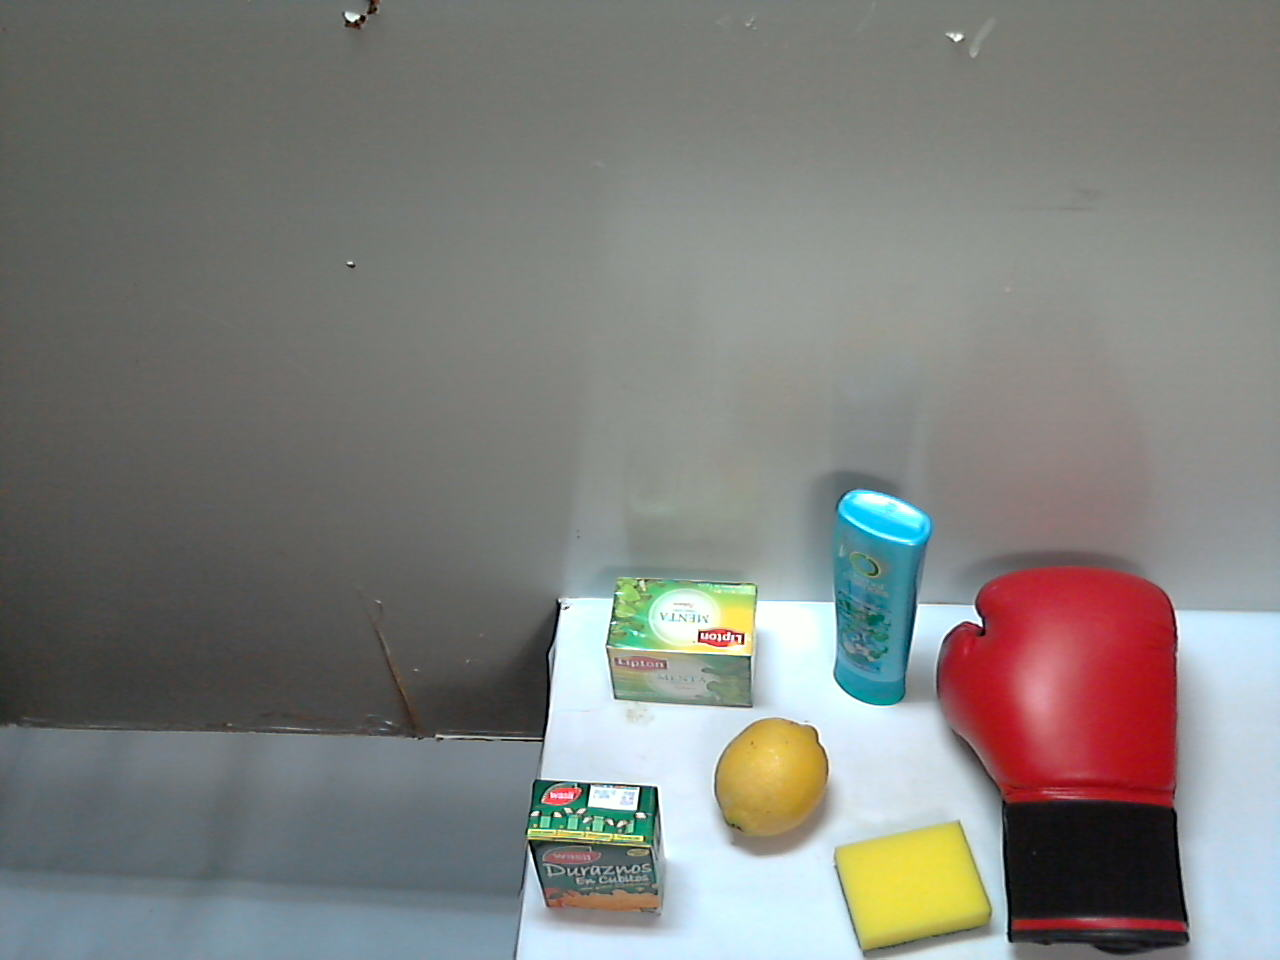cloro: (508, 510, 670, 757)
jugoind: (763, 733, 857, 891)
limon: (605, 823, 745, 956)
linterna: (446, 794, 651, 934)
papas: (683, 506, 821, 795)
platoperro: (877, 704, 1204, 960)
